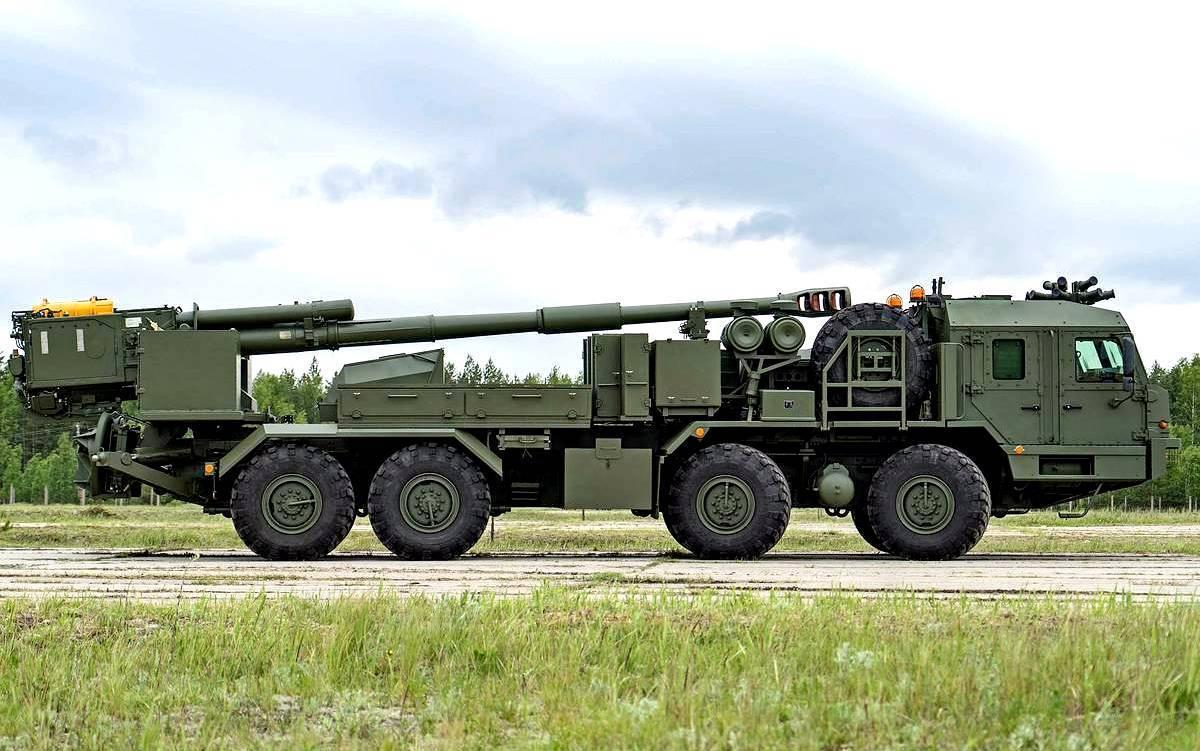sau: (23, 243, 1200, 582)
